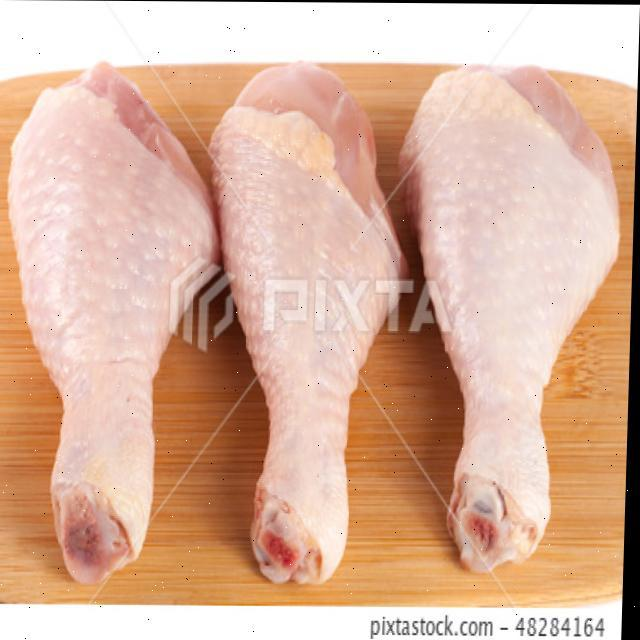leg: (0, 70, 229, 582), (398, 61, 618, 562), (198, 59, 402, 574)
